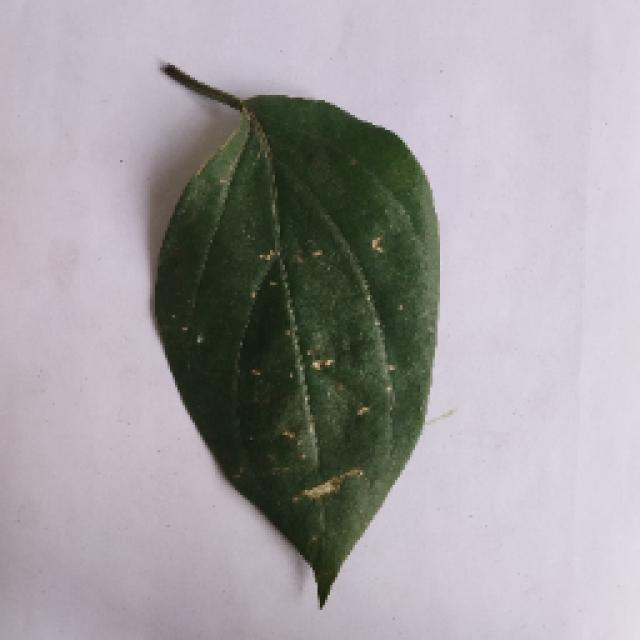pollu-disease: (128, 62, 452, 602)
